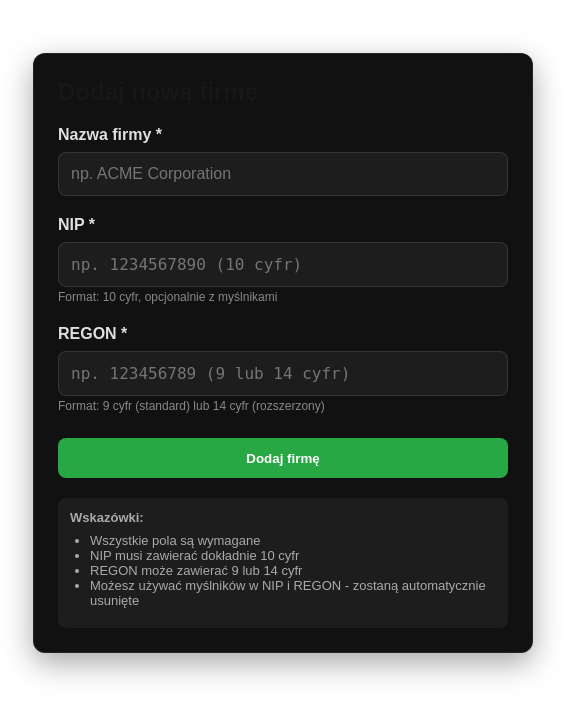
Test: AddCompanyForm › Walidacja formularza › powinien pokazać błąd gdy NIP jest pusty
The width and height of the screenshot is (567, 727).
Type "Test Company" into the field labelled "Nazwa firmy *" at (283, 174), box [58,152,508,196]
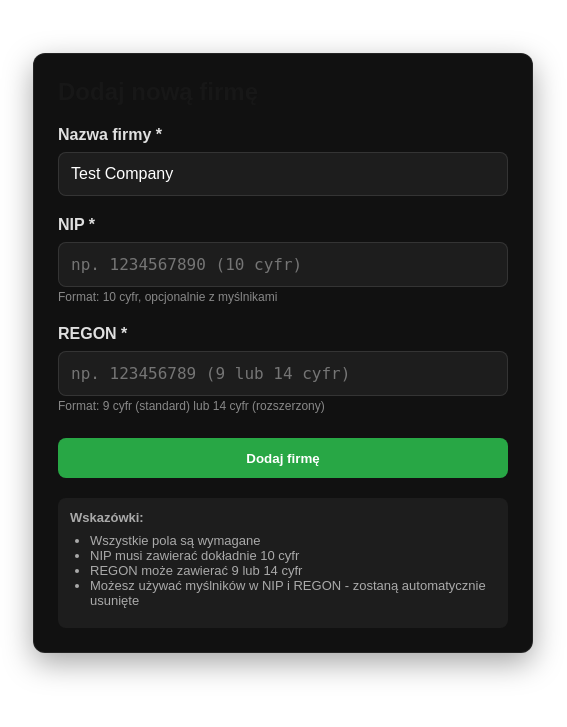
Click the button "Dodaj firmę" at (283, 458), box [58,438,508,478]
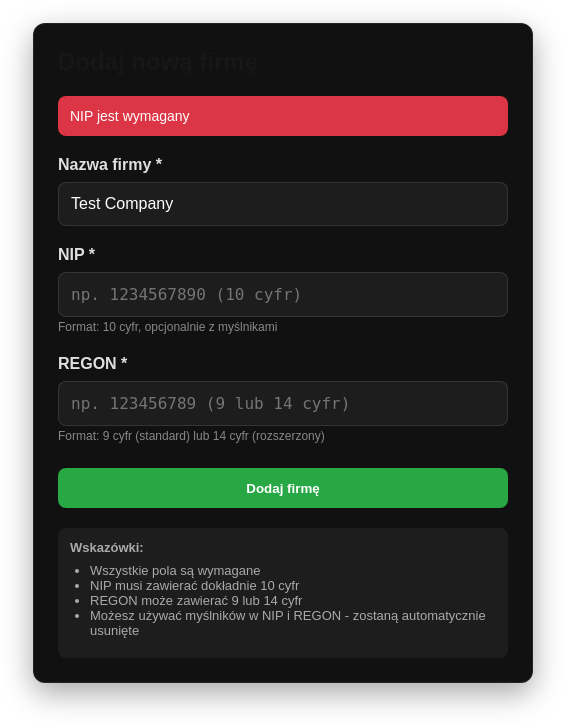
Result: the text "NIP jest wymagany" is shown at [58,96,508,136]
